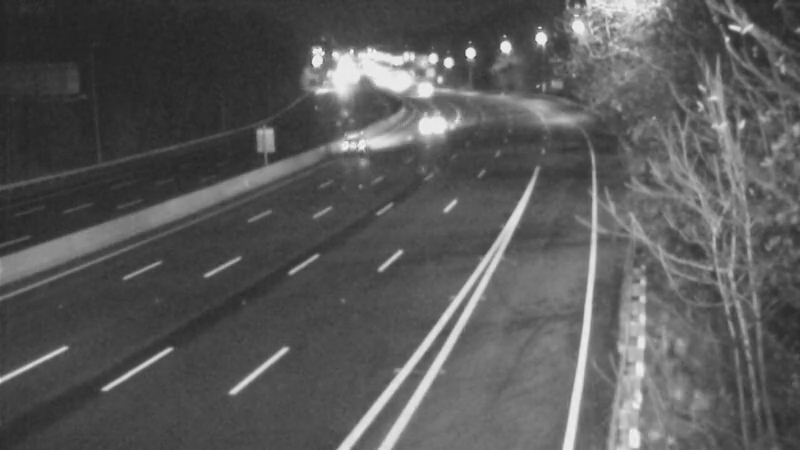vehicle: (410, 97, 460, 147), (335, 121, 385, 171)
